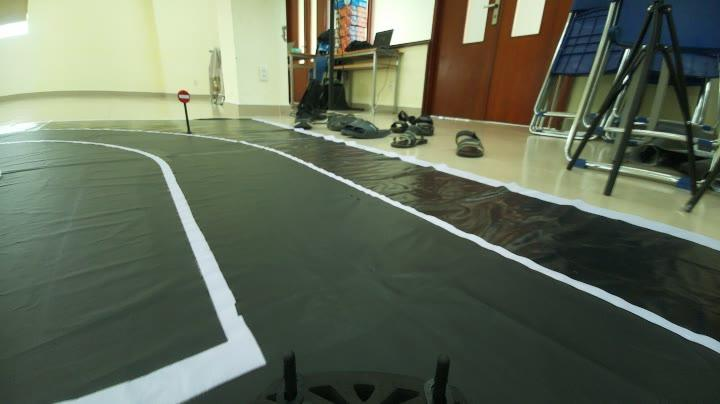no_entry: (178, 90, 192, 107)
